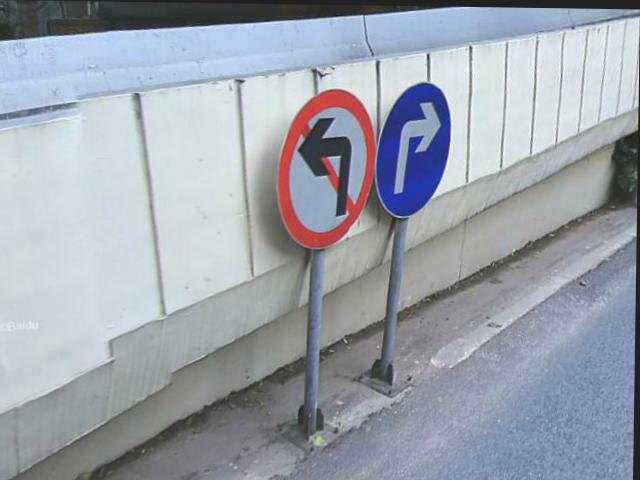not_turn_left: (279, 86, 377, 247)
